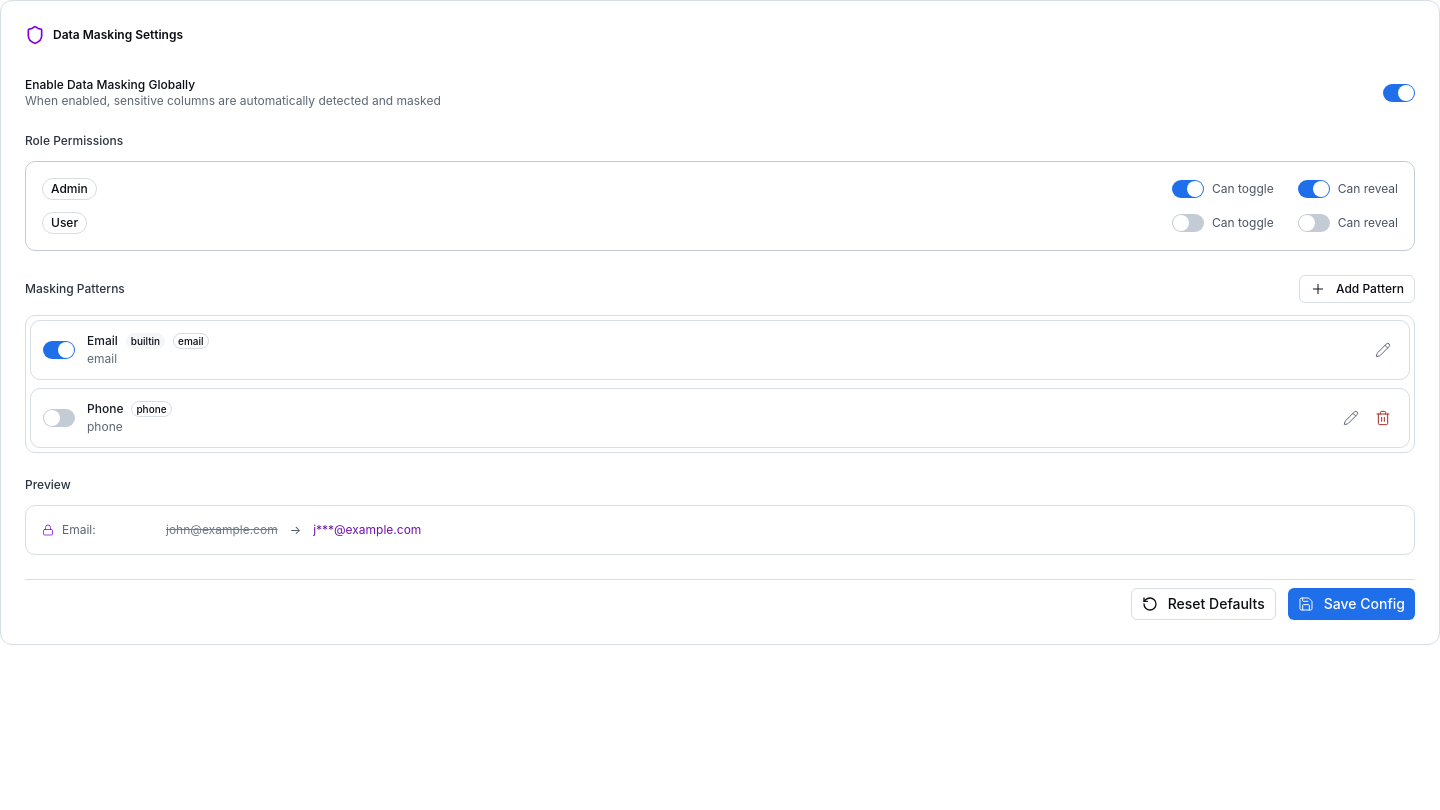
Test: MaskingSettings › clicking edit button opens edit dialog with pattern data
Step 1. Click the button with class "lucide-pencil" → (1383, 350), box [1369, 336, 1397, 364]
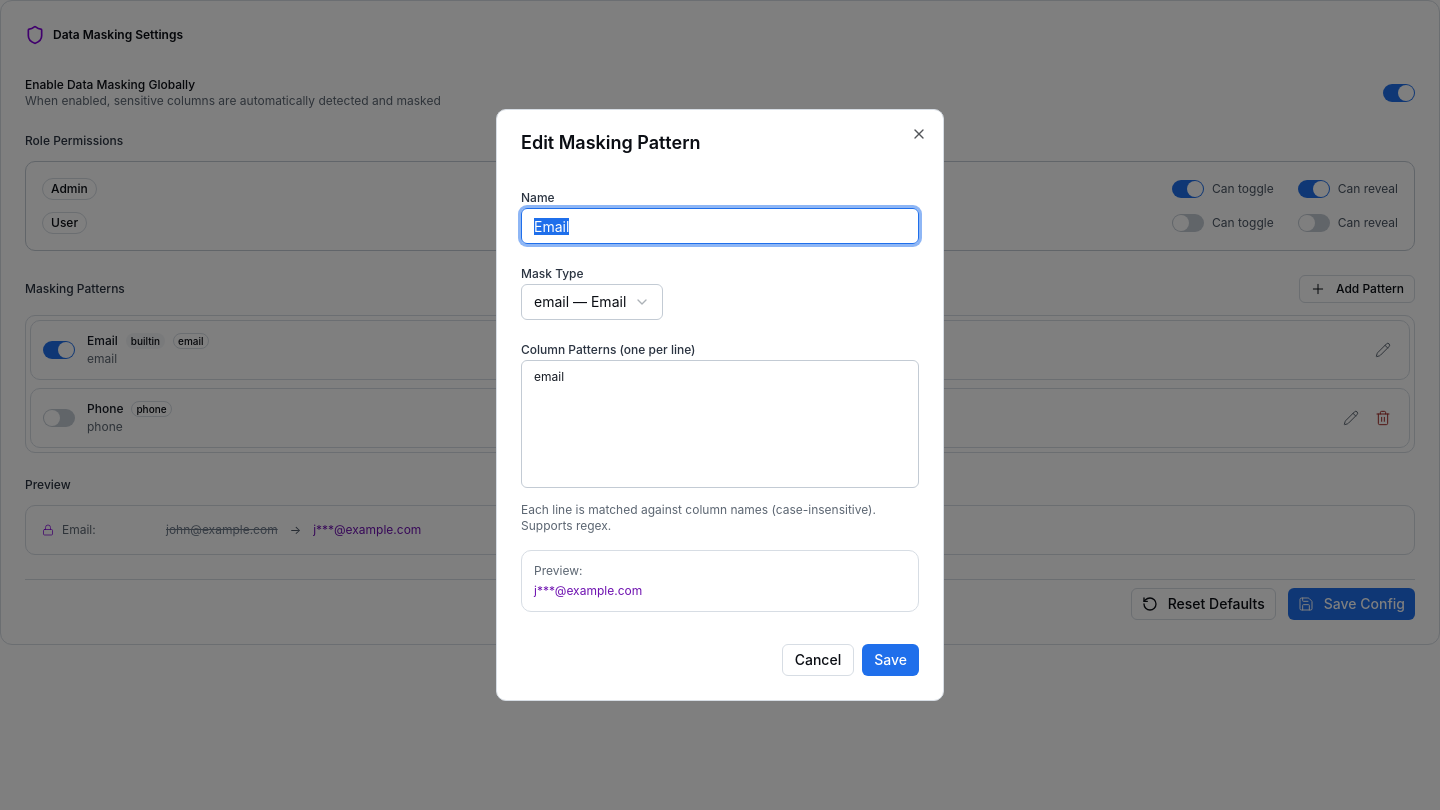
Expected: the heading "Edit Masking Pattern" is shown, [521, 132, 700, 153]
Expected: the field with placeholder "Pattern name" holds "Email", [521, 208, 919, 244]
